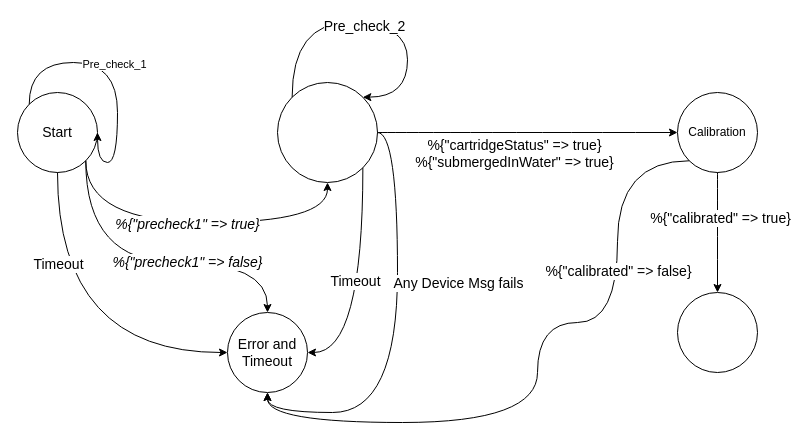
Image size: 808x440. Some labels were removed from this diagram. The centre of each missing label's shape, as x and y in pixels:
Finished: point (717, 332)
Start pre_check_2: point (327, 132)
